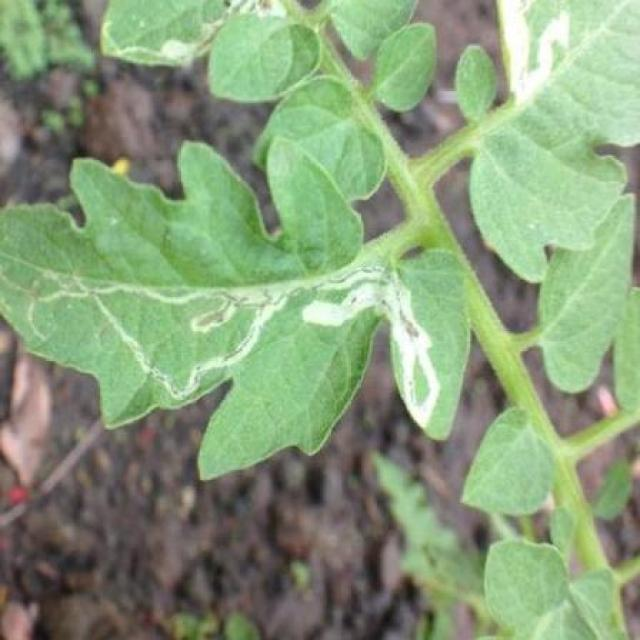Leaf Miner: (1, 132, 473, 479)
